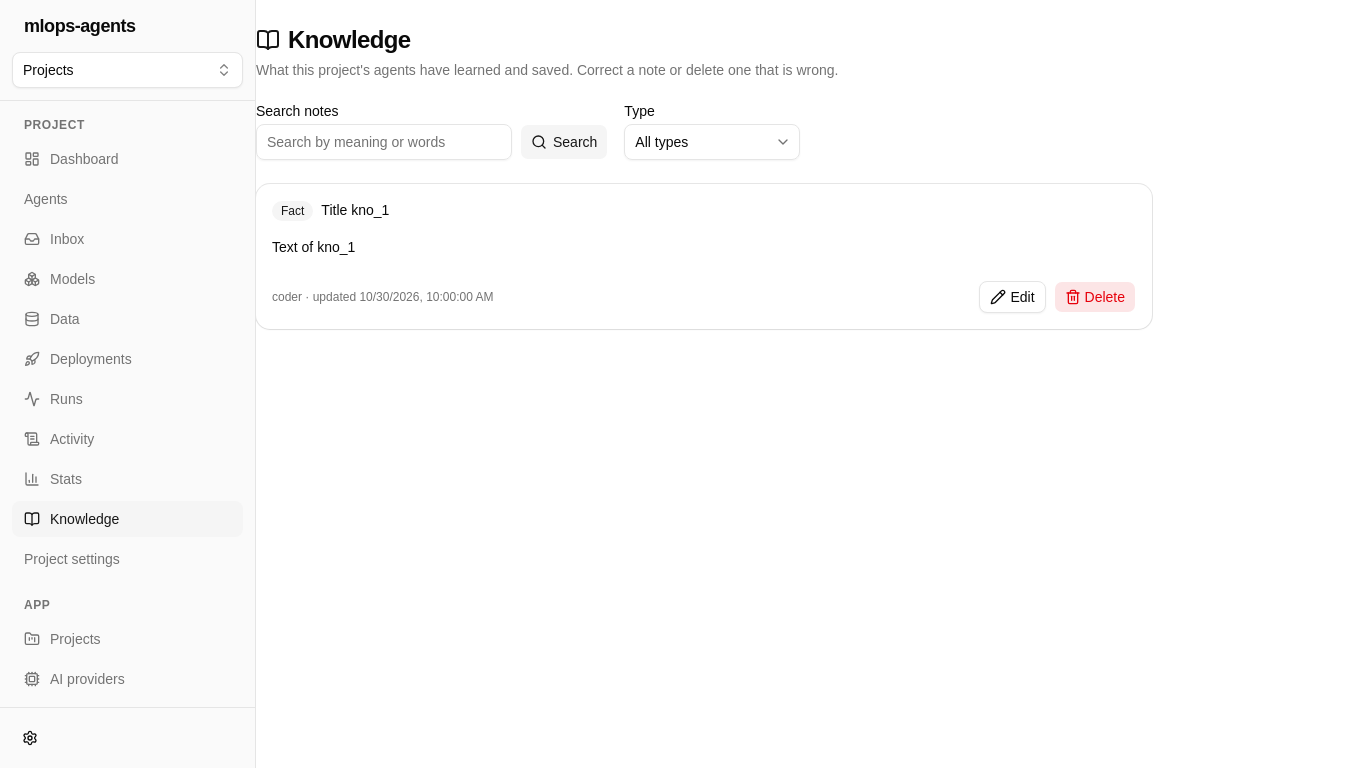
KnowledgePage › edits and sends only the changed fields, then shows the saved note
Click the button "Edit". click: (1012, 297)
box: [979,281,1046,313]
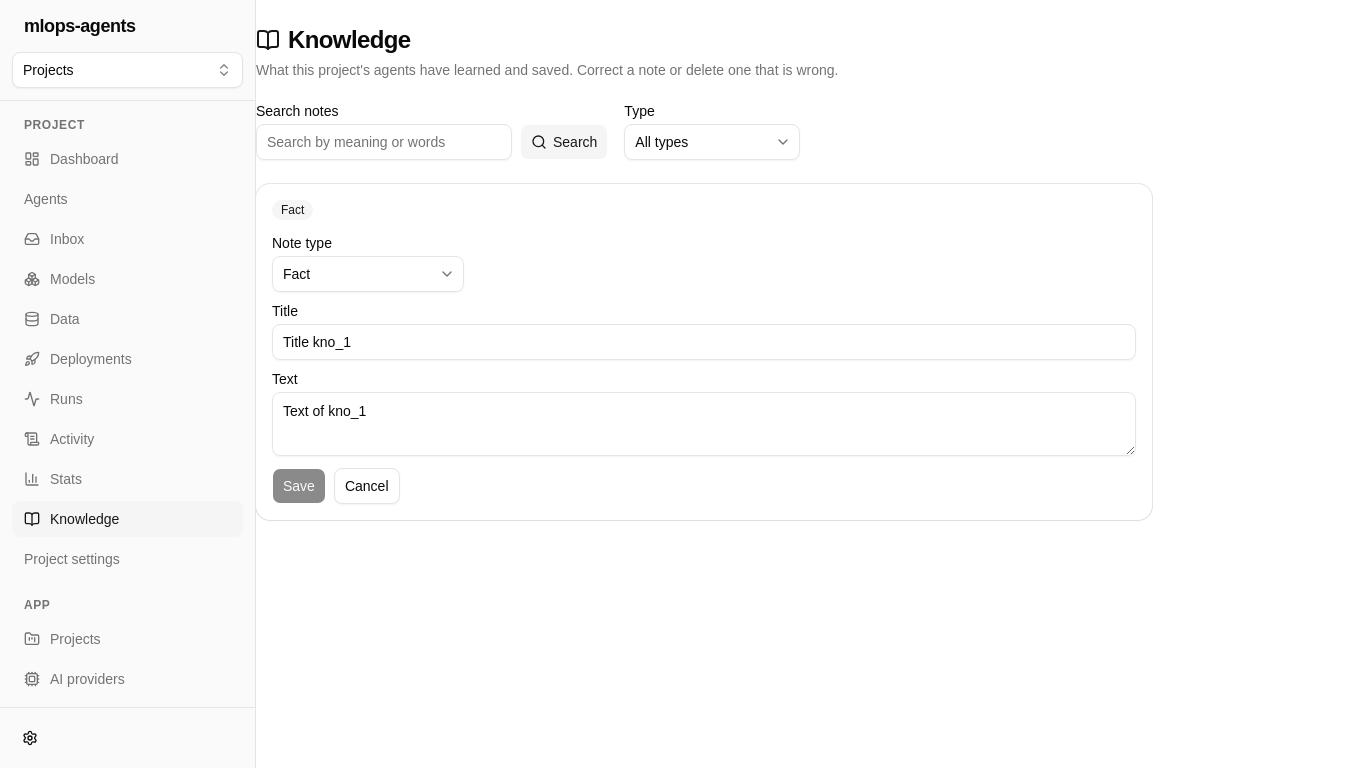
Replace the text in the field labelled "Title" with "Better title". click: (704, 342)
box: [272,324,1136,360]
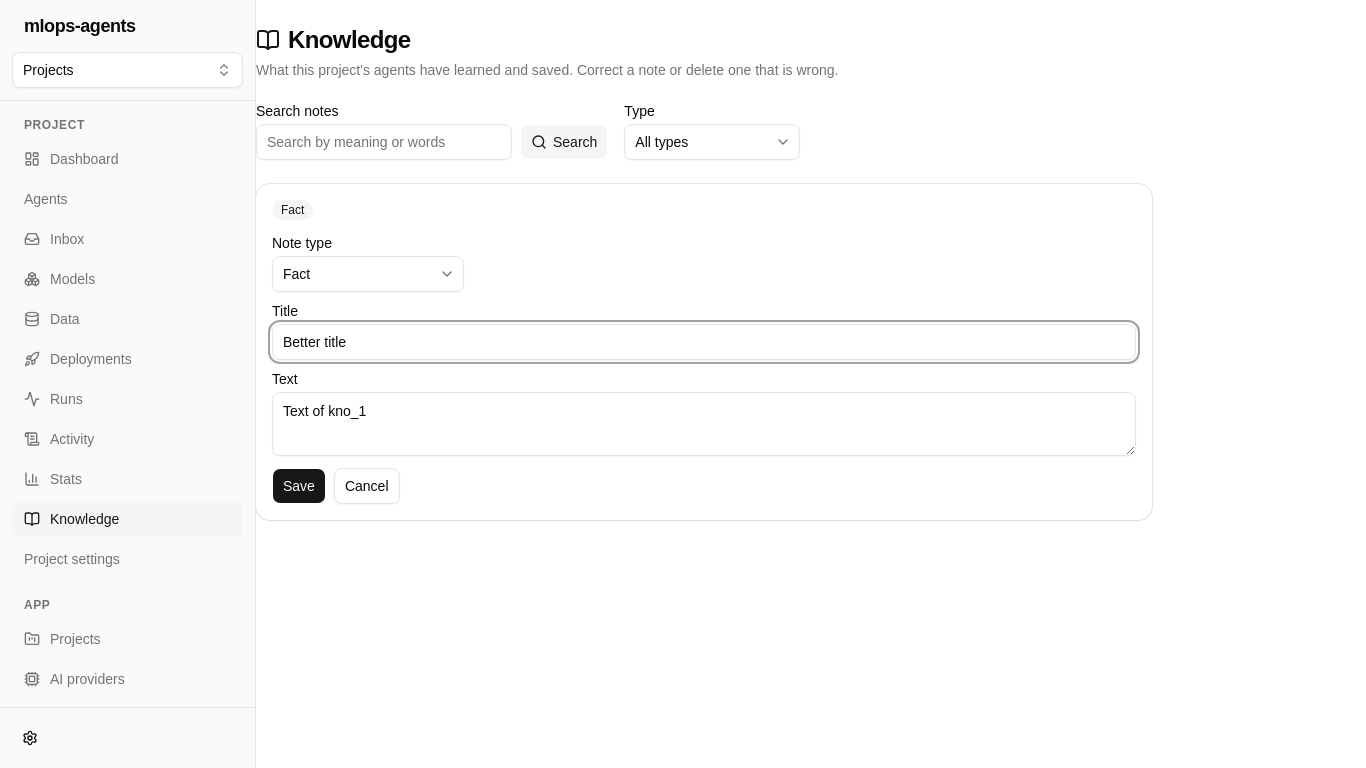
Click the button "Save". click: (299, 486)
box: [272,468,326,504]
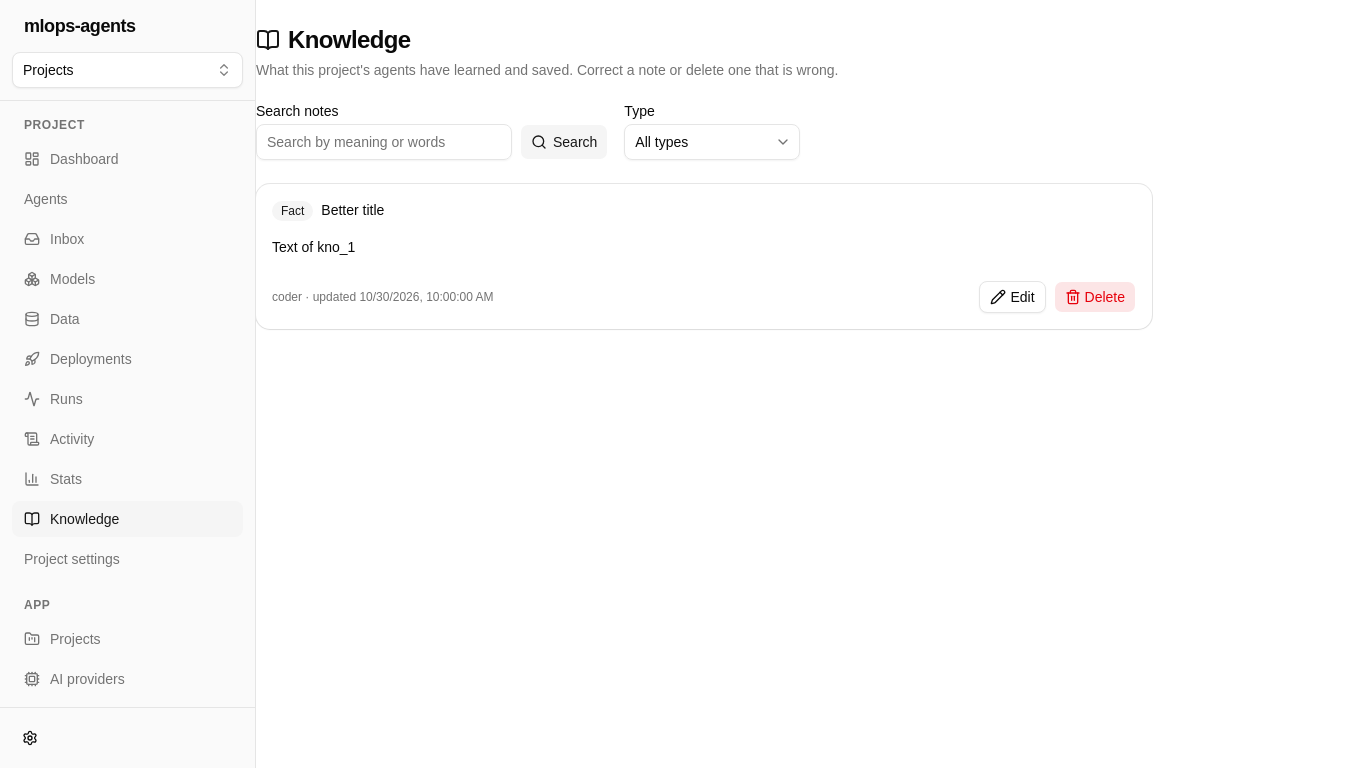
Expected: the text "Better title" is shown, [321,200,384,221]
